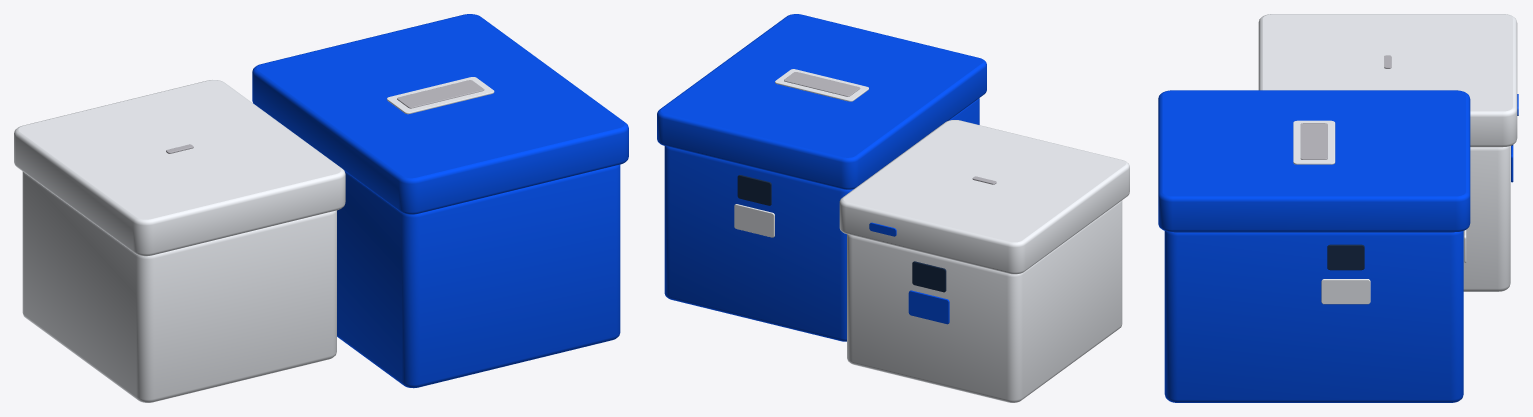
File: 31-nodeworks-storage-boxes.glb
The picture shows the model from 3 angles, left to right: view 1: azimuth 30°, elevation 25°; view 2: azimuth 150°, elevation 25°; view 3: azimuth 270°, elevation 25°; orthographic projection. The views are drawn at different scales.
Visible parts, largest first — view 1: blue_box_body, white_box_body, blue_overhanging_lid, white_overhanging_lid, blue_lid_gray_label_inset, blue_lid_white_label_border; view 2: blue_overhanging_lid, white_box_body, white_overhanging_lid, blue_box_body, white_front_index_label, blue_front_index_label, blue_lid_gray_label_inset, white_front_dark_pull, blue_front_dark_pull, blue_lid_white_label_border; view 3: blue_box_body, blue_overhanging_lid, white_overhanging_lid, white_box_body, blue_side_index_label, blue_lid_gray_label_inset, blue_side_dark_pull, blue_lid_white_label_border.
Boxes of the visible parts, box(x1,y1,x2,y2) form: blue_box_body: box(337, 164, 620, 388); white_box_body: box(22, 171, 336, 402); blue_overhanging_lid: box(252, 14, 628, 214); white_overhanging_lid: box(14, 80, 345, 256); blue_lid_gray_label_inset: box(397, 80, 484, 108); blue_lid_white_label_border: box(387, 77, 494, 114); blue_overhanging_lid: box(657, 14, 986, 189); white_box_body: box(847, 200, 1122, 402); white_overhanging_lid: box(839, 120, 1129, 274); blue_box_body: box(664, 98, 979, 341); white_front_index_label: box(908, 290, 949, 324); blue_front_index_label: box(734, 204, 774, 237); blue_lid_gray_label_inset: box(784, 72, 860, 96); white_front_dark_pull: box(912, 261, 946, 292); blue_front_dark_pull: box(737, 175, 771, 205); blue_lid_white_label_border: box(775, 69, 868, 101); blue_box_body: box(1164, 231, 1463, 402); blue_overhanging_lid: box(1158, 90, 1470, 231); white_overhanging_lid: box(1258, 14, 1517, 147); white_box_body: box(1463, 146, 1510, 291); blue_side_index_label: box(1321, 279, 1370, 304); blue_lid_gray_label_inset: box(1300, 123, 1327, 159); blue_side_dark_pull: box(1327, 244, 1364, 270); blue_lid_white_label_border: box(1293, 120, 1335, 164).
Size of the model in its own units: 0.347 by 0.162 by 0.2496.
